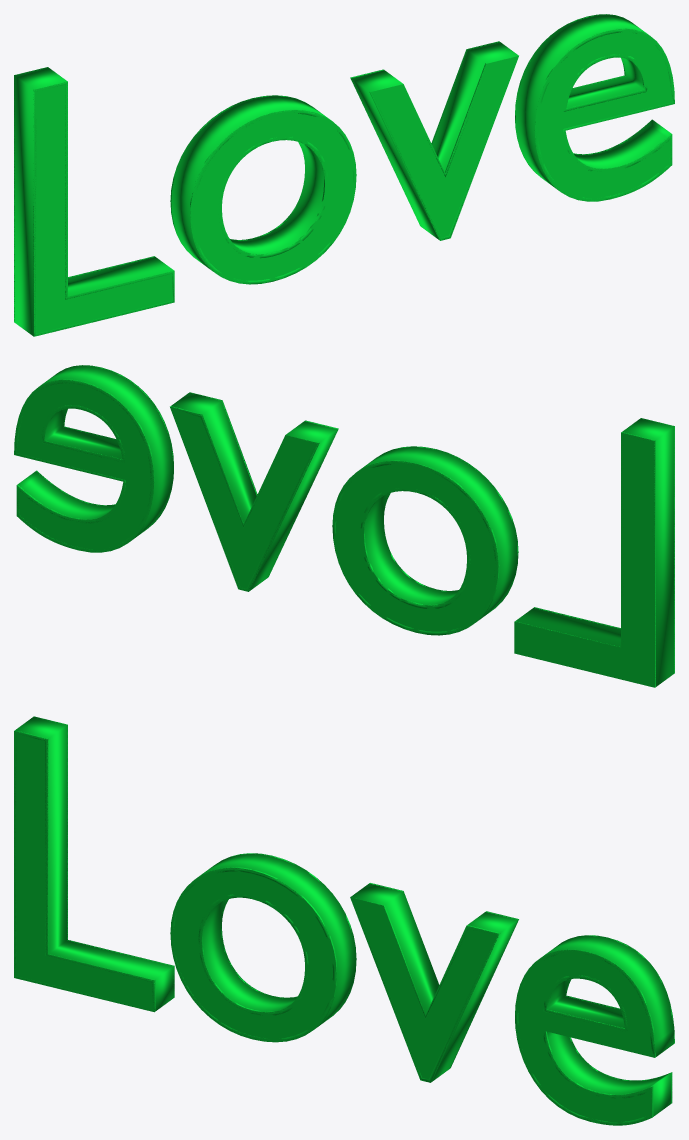
Rendered from ash.glb.
3 renders of one model, top to bottom at view 1: azimuth 30°, elevation 25°; view 2: azimuth 150°, elevation 25°; view 3: azimuth 330°, elevation 25°, orthographic.
Visible parts, largest first — view 1: Ash..; view 2: Ash..; view 3: Ash...
Boxes of the visible parts, <box> form: Ash..: <box>14,14,674,336</box>; Ash..: <box>14,365,674,687</box>; Ash..: <box>14,716,674,1125</box>.
Bounding box in the file's own units: 1.85 × 0.691 × 0.1.
